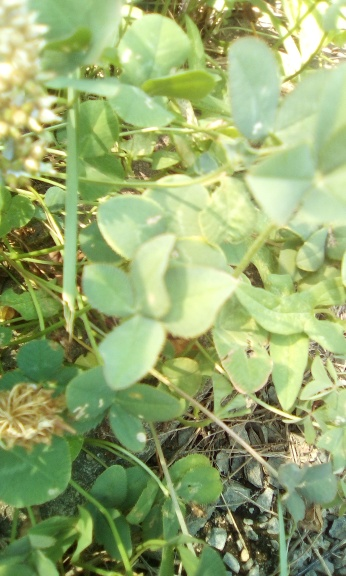4leaf: (81, 234, 239, 392)
